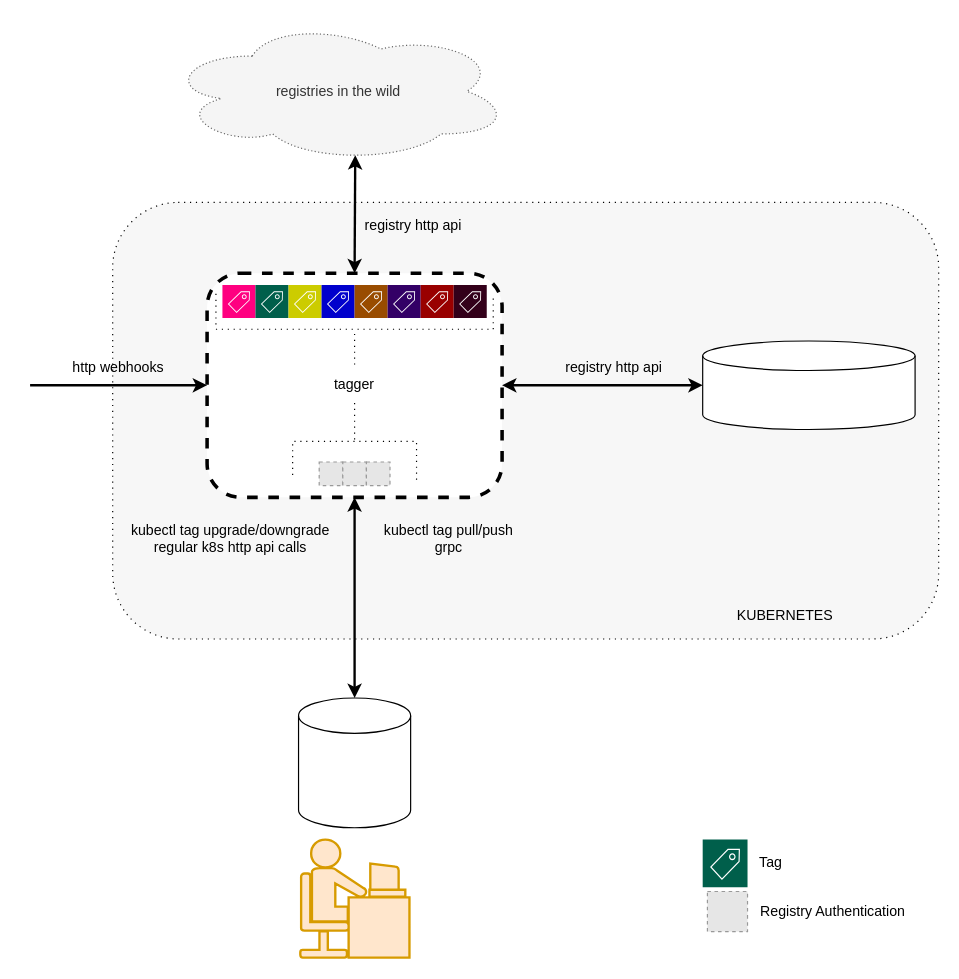
Some shapes in this 959 by 979 pixel diagram are drawn without their labels. Grey dashed boxes stand in for pictures. The shapes that lost their labels are listed below. From the top down, each one's centre as x and y in pixels, then its label:
the point at 808,385: "on premises" registry
the point at 354,762: podman/docker local storage
